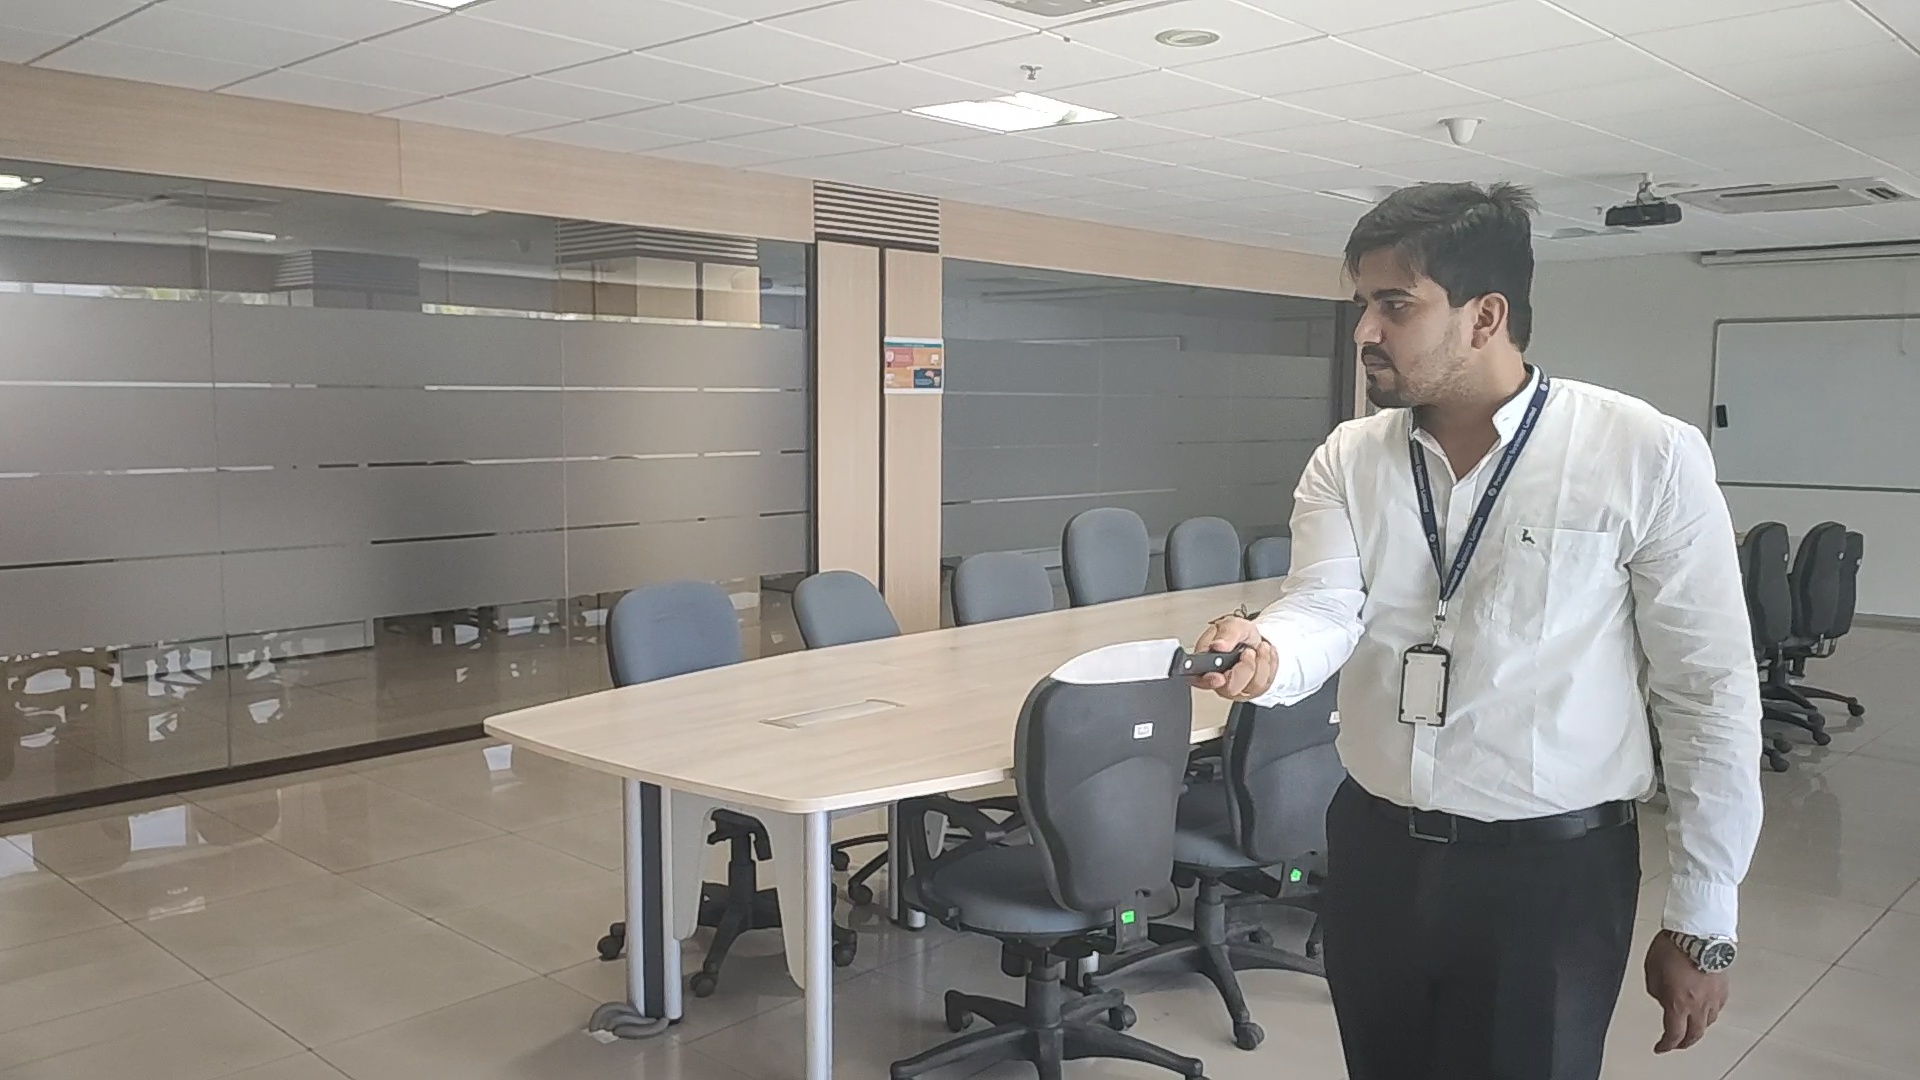knife: (1051, 637, 1222, 684)
